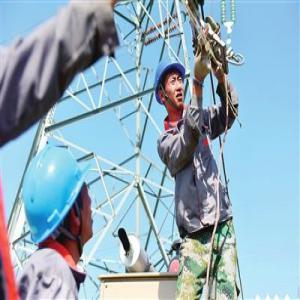blue: (22, 143, 98, 257), (154, 60, 186, 112)
